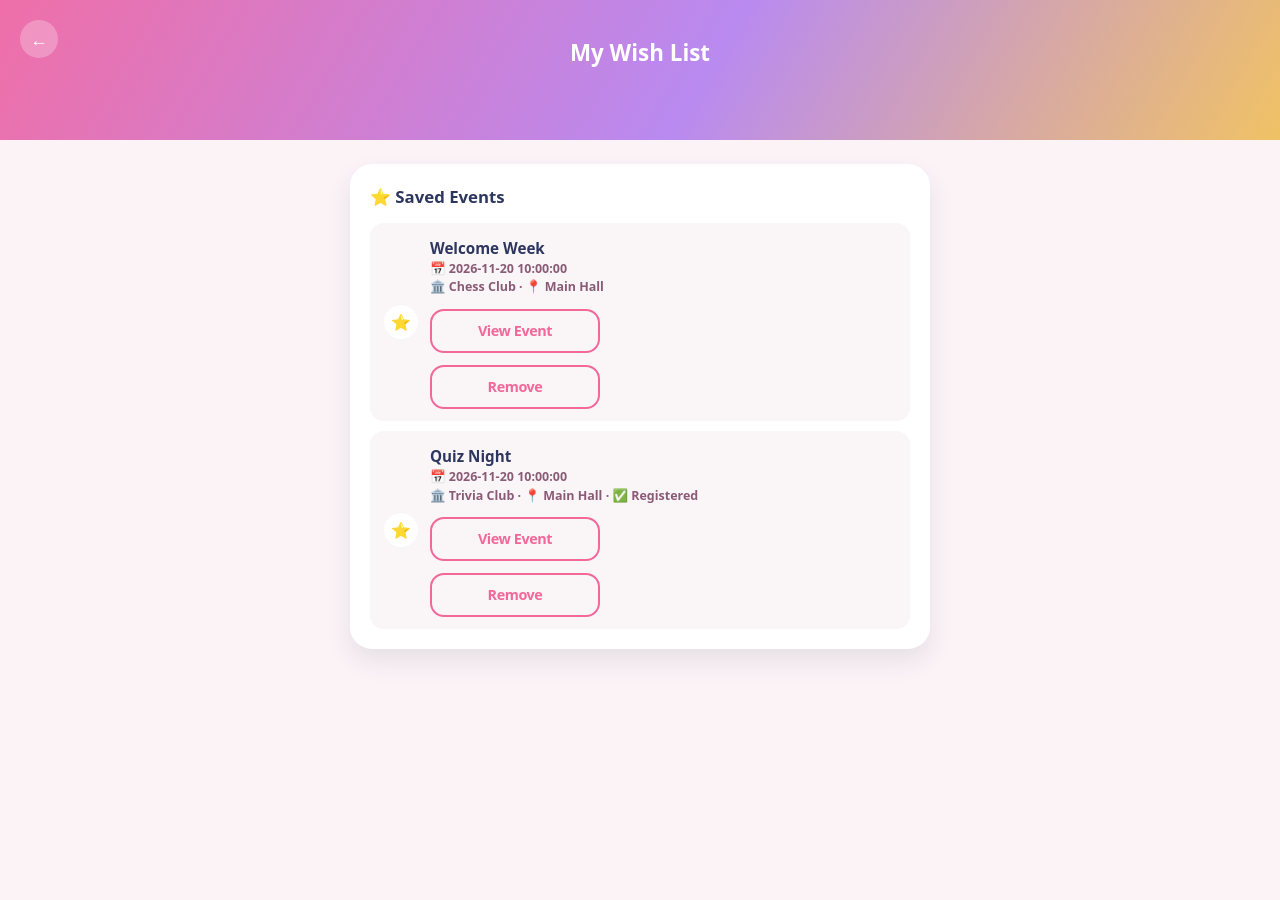
it: SavedEventsPage (wish list) › F13: Remove takes the event off the wish list and shows a confirmation
Click the button "Remove" below "Chess Club" at (515, 387), box [430, 365, 600, 409]
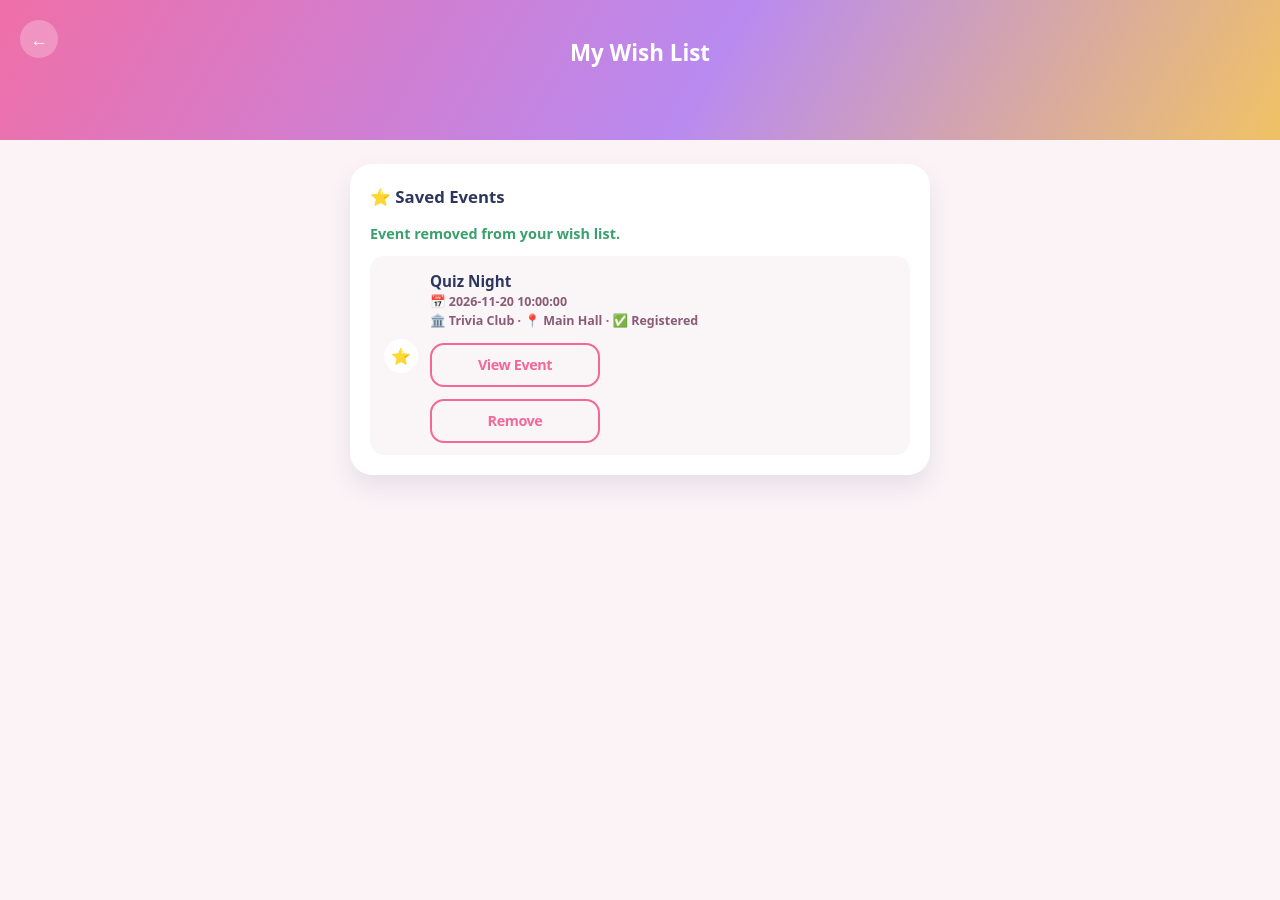
Expected: the text "Quiz Night" is shown, [430, 271, 511, 291]
Result: the text "Event removed from your wish list." is shown at [370, 224, 620, 243]
Result: the text "Welcome Week" is gone
